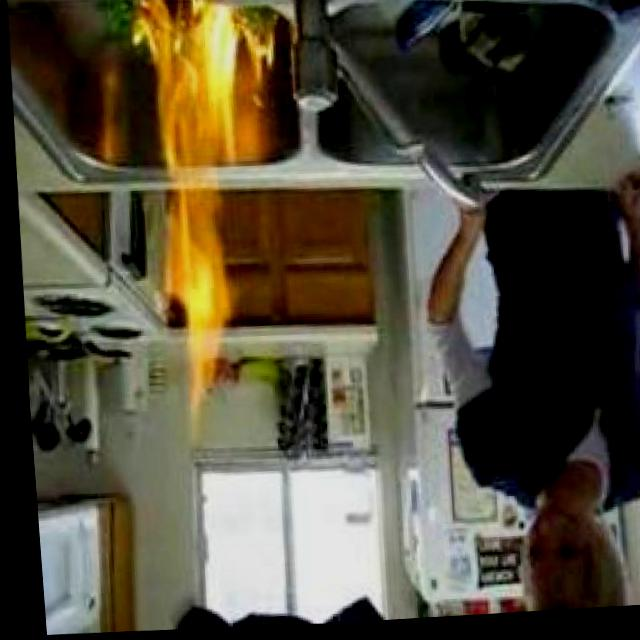helmet: (130, 0, 293, 440)
